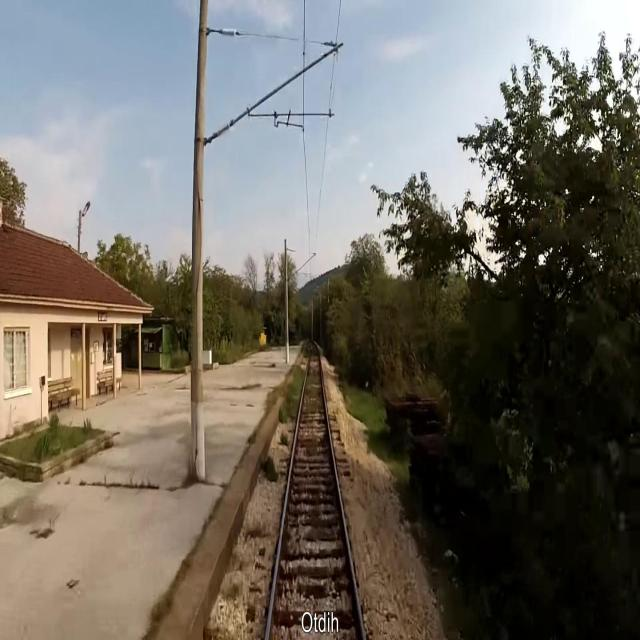rail-track: (269, 343, 362, 639)
